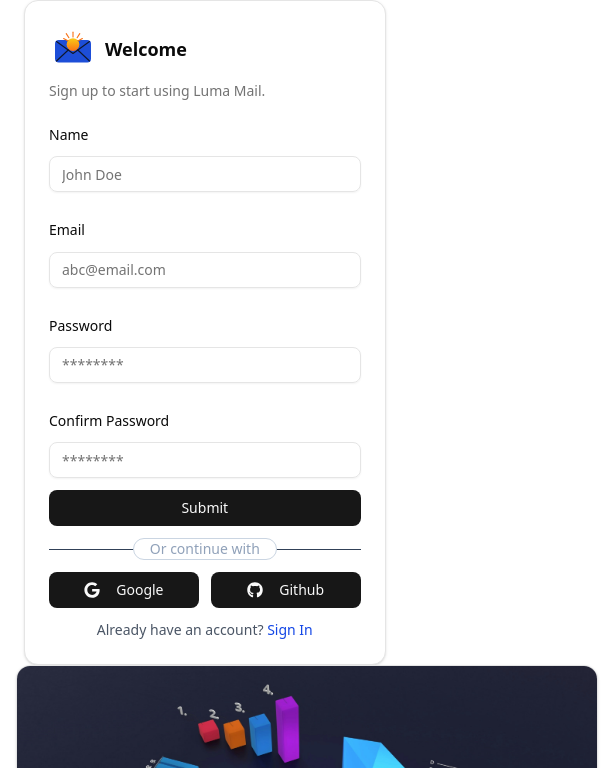
Test: SignUp Page › SignUp Component - Form Validation › shows validation error for name required
This screenshot has width=615, height=768.
Click the button "Submit" at [205, 508], box x1=49 y1=490 x2=361 y2=526
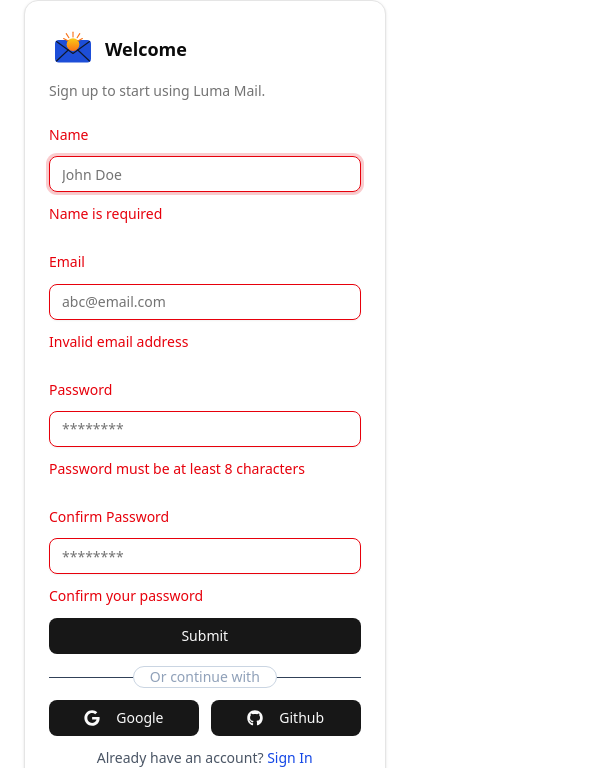
Expected: the text "Name is required" is shown, x1=49 y1=204 x2=162 y2=223
